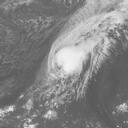cyclone: (48, 24, 103, 84)
